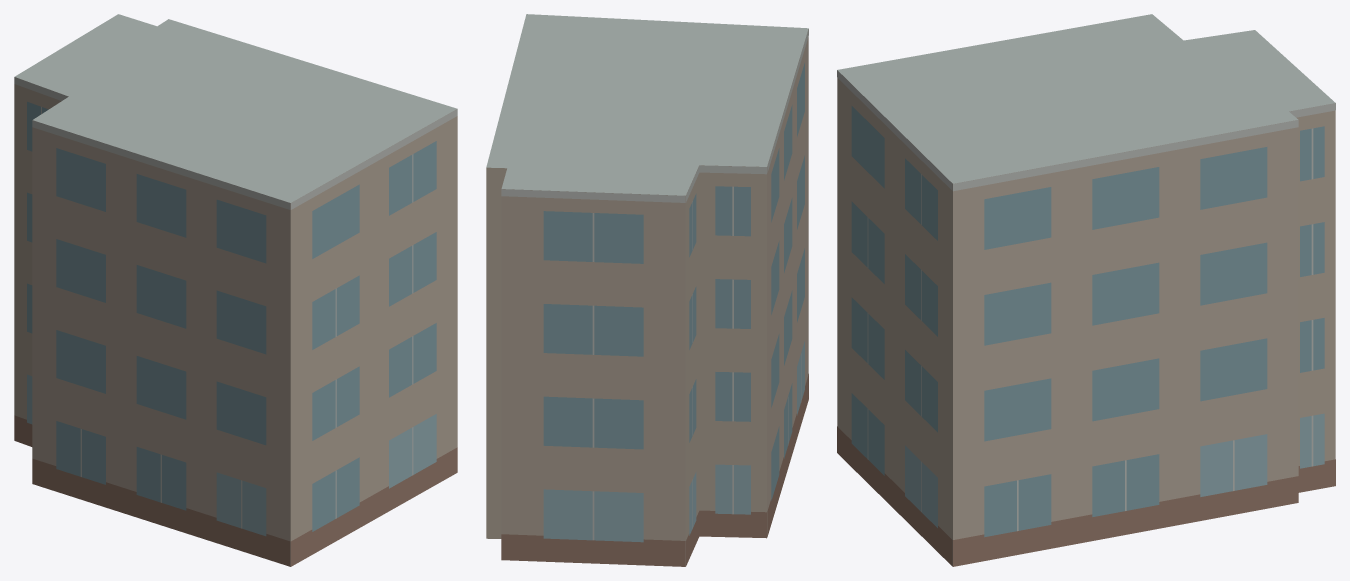
Rendered from survey-upis-32743908.glb.
3 views of the same model, side by side, from view 1: azimuth 30°, elevation 25°; view 2: azimuth 150°, elevation 25°; view 3: azimuth 270°, elevation 25° (orthographic). The views are drawn at different scales.
Parts seen in each view (by area): view 1: survey-upis-32743908.tmp; view 2: survey-upis-32743908.tmp; view 3: survey-upis-32743908.tmp.
Boxes of the visible parts, <box> form: survey-upis-32743908.tmp: <box>14,14,457,566</box>; survey-upis-32743908.tmp: <box>486,14,808,566</box>; survey-upis-32743908.tmp: <box>837,14,1335,566</box>.
Bounding box in the file's own units: 11.9 × 12.5 × 14.76.
